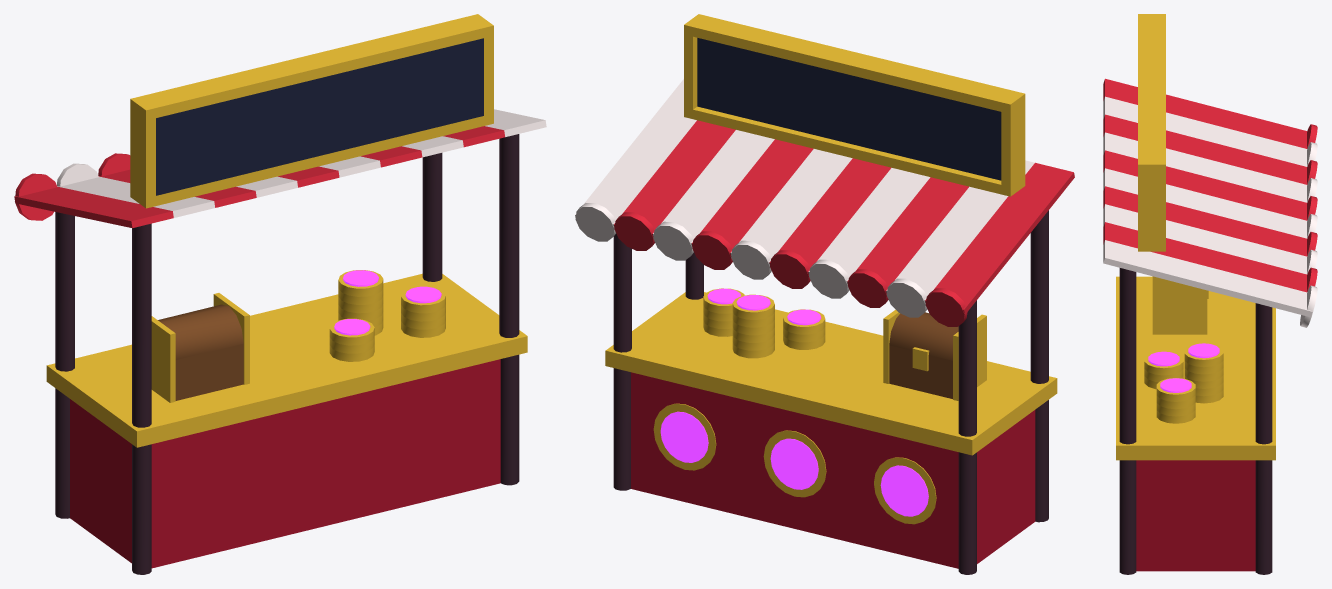
Rendered from Hub_BossShop.glb.
3 views of the same model, side by side, from view 1: azimuth 30°, elevation 25°; view 2: azimuth 150°, elevation 25°; view 3: azimuth 270°, elevation 25° (orthographic). The views are drawn at different scales.
Parts seen in each view (by area): view 1: Counter, CounterTop, Header, Posts, Frame, AwningRed, Chest, AwningWhite, TokenRims, ChestTrim, Tokens; view 2: Counter, AwningRed, AwningWhite, CounterTop, Header, Frame, Posts, TokenRims, Tokens, Chest, ChestTrim; view 3: AwningWhite, AwningRed, CounterTop, Counter, Posts, Frame, TokenRims, ChestTrim, Tokens.
Part boxes in pixels (left/top/right/bottom): Counter: left=70, top=359, right=500, bottom=568; CounterTop: left=46, top=273, right=527, bottom=447; Header: left=156, top=38, right=483, bottom=195; Posts: left=55, top=134, right=519, bottom=574; Frame: left=130, top=14, right=493, bottom=208; AwningRed: left=14, top=126, right=504, bottom=228; Chest: left=158, top=304, right=243, bottom=400; AwningWhite: left=57, top=109, right=546, bottom=217; TokenRims: left=329, top=270, right=445, bottom=361; ChestTrim: left=151, top=293, right=249, bottom=402; Tokens: left=334, top=270, right=441, bottom=335; Counter: left=631, top=372, right=1035, bottom=568; AwningRed: left=614, top=120, right=1074, bottom=326; AwningWhite: left=575, top=79, right=1034, bottom=317; CounterTop: left=605, top=292, right=1057, bottom=455; Header: left=697, top=38, right=1001, bottom=180; Frame: left=684, top=14, right=1025, bottom=196; Posts: left=613, top=210, right=1048, bottom=574; TokenRims: left=653, top=288, right=936, bottom=524; Tokens: left=660, top=288, right=928, bottom=516; Chest: left=889, top=312, right=958, bottom=398; ChestTrim: left=883, top=309, right=986, bottom=400; AwningWhite: left=1103, top=96, right=1317, bottom=327; AwningRed: left=1103, top=78, right=1317, bottom=292; CounterTop: left=1116, top=276, right=1275, bottom=460; Counter: left=1136, top=460, right=1255, bottom=571; Posts: left=1119, top=268, right=1272, bottom=574; Frame: left=1138, top=14, right=1165, bottom=251; TokenRims: left=1144, top=343, right=1223, bottom=423; ChestTrim: left=1152, top=276, right=1208, bottom=334; Tokens: left=1148, top=343, right=1219, bottom=392.
Bounding box in the file's own units: 10.6 × 11.1 × 5.36.
